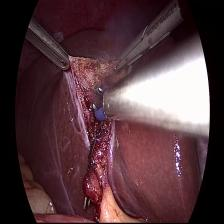Bipolar: (88, 83, 112, 129)
Grasper: (109, 6, 162, 72), (26, 18, 72, 75)
